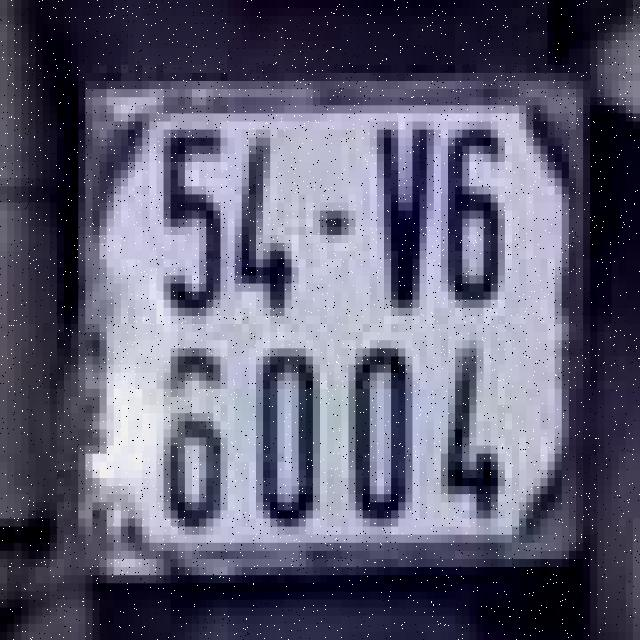0: (341, 336, 427, 531), (252, 340, 330, 543)
4: (444, 332, 516, 535), (238, 121, 302, 316)
5: (156, 117, 228, 320)
6: (160, 328, 238, 539), (441, 117, 519, 320)
V: (362, 113, 433, 316)
